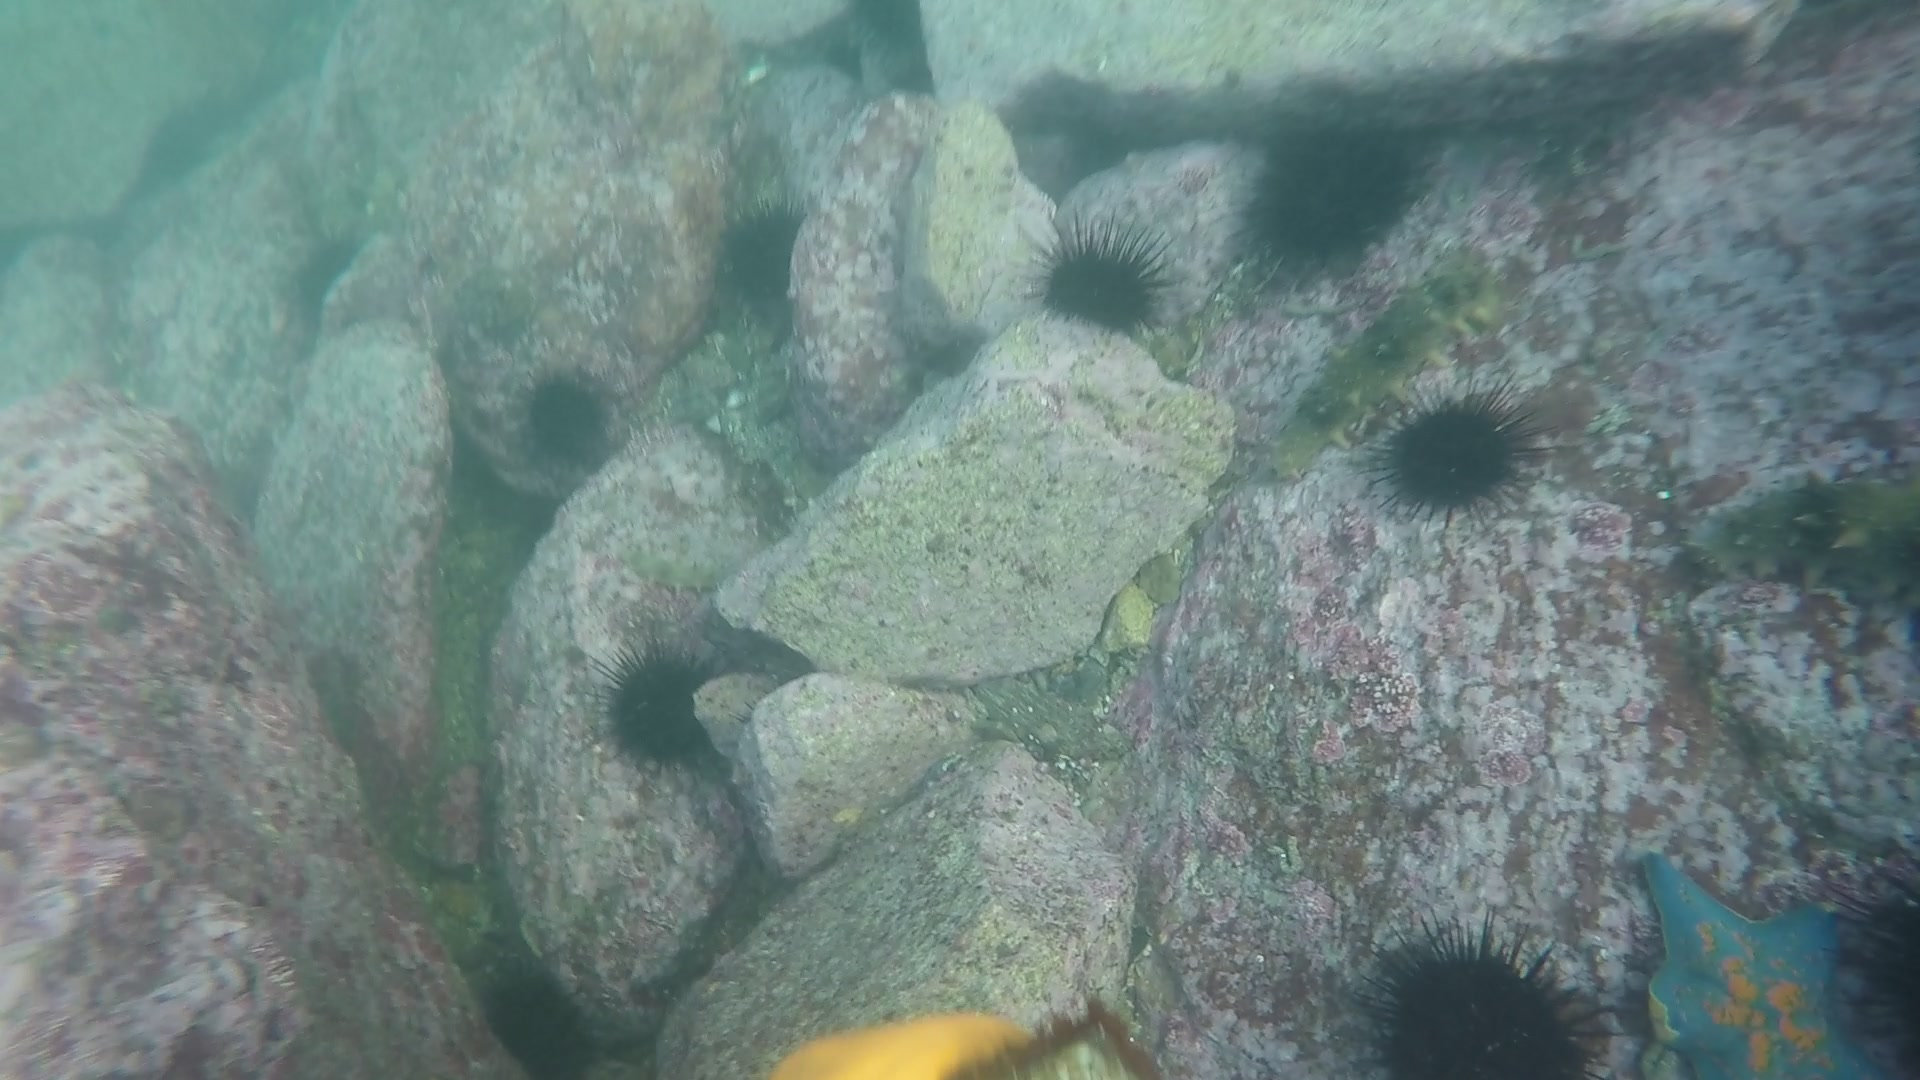echinus: (1357, 919, 1611, 1080), (1240, 112, 1435, 286), (1365, 377, 1532, 521), (585, 647, 729, 771), (1033, 208, 1175, 331), (469, 975, 595, 1080), (502, 376, 632, 469), (711, 202, 819, 294)
holothurian: (1250, 251, 1498, 493), (1672, 473, 1920, 593)
starfish: (1633, 848, 1880, 1080)
